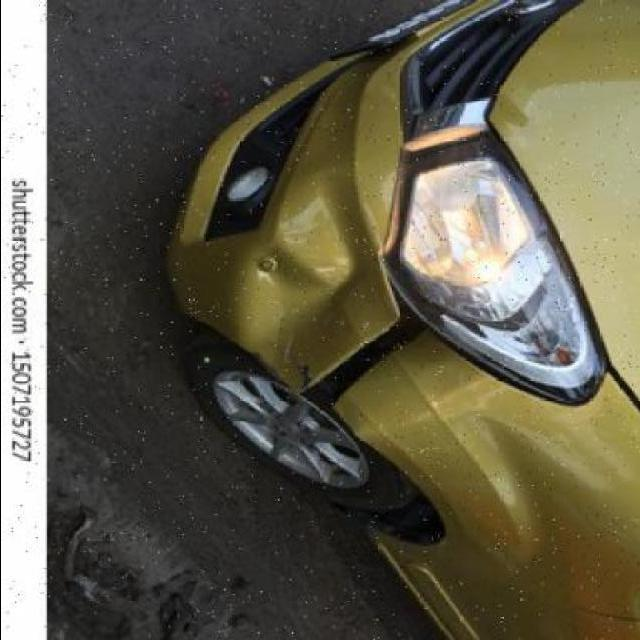front-bumper-dent: (188, 16, 437, 440)
